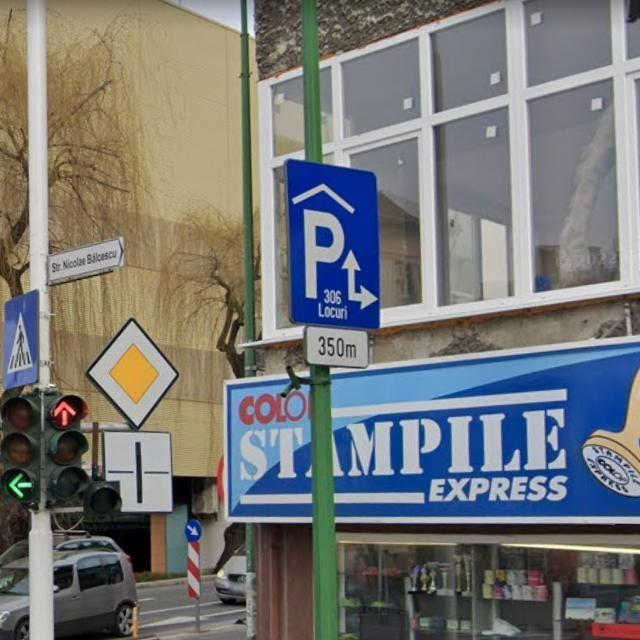info_crosswalk: (1, 288, 42, 388)
